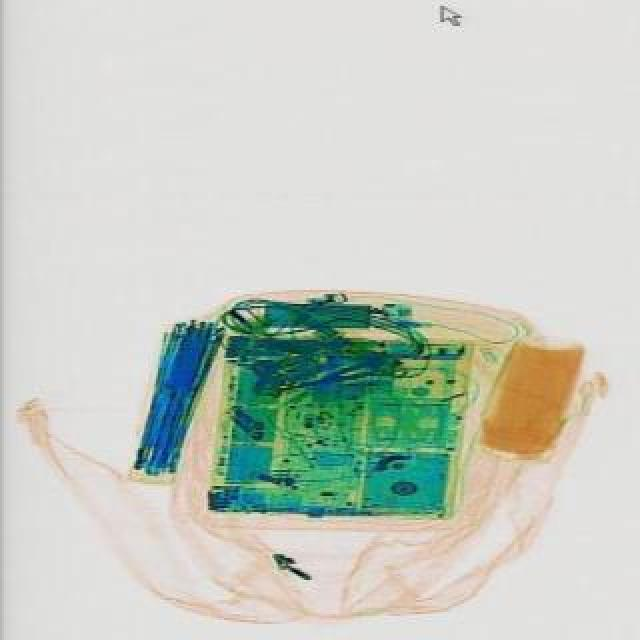wrench: (294, 356, 378, 396)
